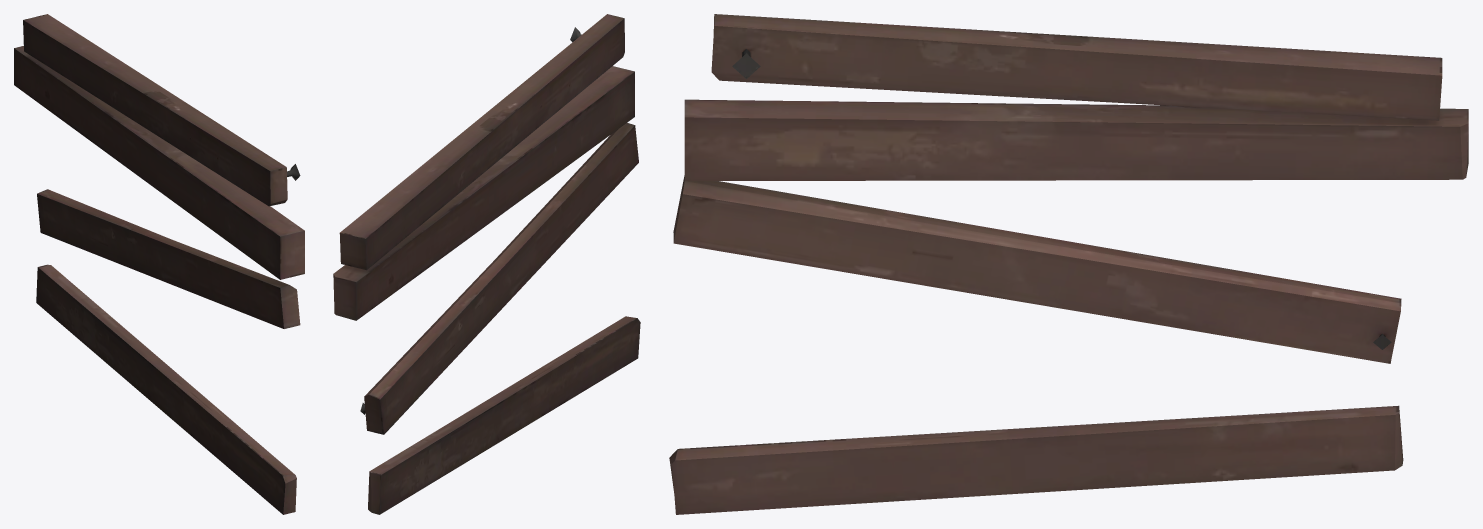
3 views of the same model, side by side, from view 1: azimuth 30°, elevation 25°; view 2: azimuth 150°, elevation 25°; view 3: azimuth 270°, elevation 25° (orthographic). The views are drawn at different scales.
Parts seen in each view (by area): view 1: body0_model0_lod0_mesh0; view 2: body0_model0_lod0_mesh0; view 3: body0_model0_lod0_mesh0.
Part boxes in pixels (bbox=[...]): body0_model0_lod0_mesh0: bbox=[14, 14, 304, 514]; body0_model0_lod0_mesh0: bbox=[333, 14, 640, 514]; body0_model0_lod0_mesh0: bbox=[669, 14, 1468, 514].
Size of the model in its own units: 7.44 by 65.52 by 96.44.
Materials: 1 (1 with a texture image).
